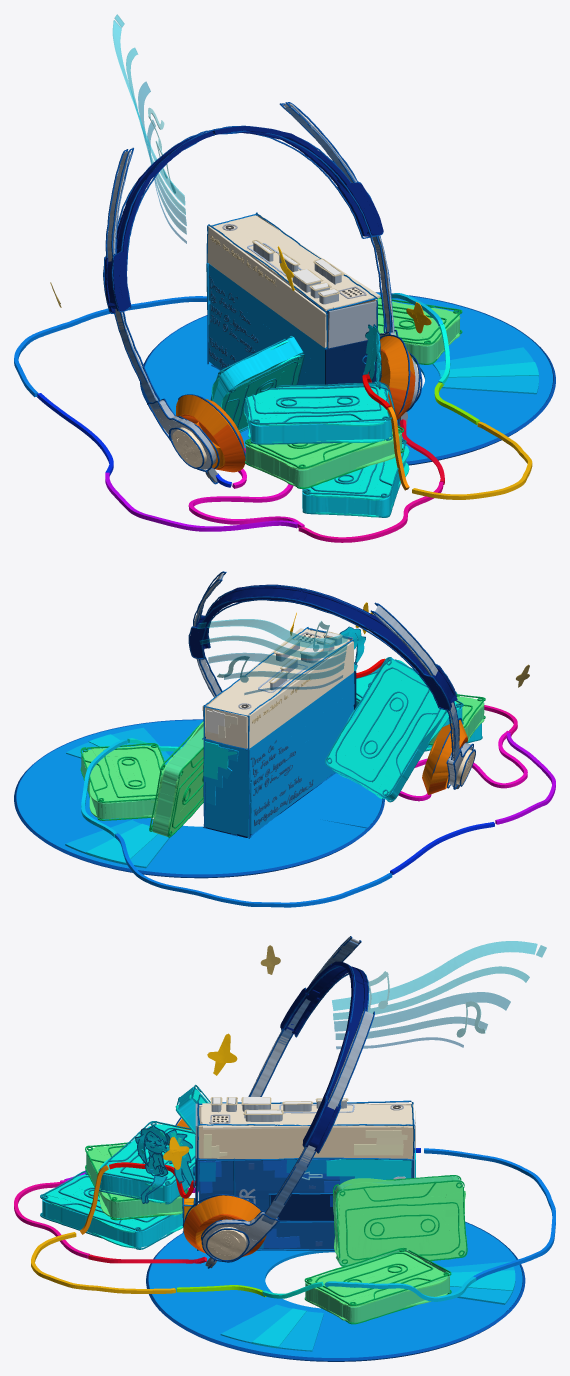
The model's file is radiodraco.glb.
3 renders of one model, top to bottom at view 1: azimuth 30°, elevation 25°; view 2: azimuth 150°, elevation 25°; view 3: azimuth 270°, elevation 25°, orthographic. The views are drawn at different scales.
Parts seen in each view (by area): view 1: Group.Environment.Curve.0, Group.Paint.Curve.10, Group.Tapes.Curve.114, Group.Environment.Curve.2, Group.Tapes.Curve.73, Group.Paint.Curve.7, Group.Tapes.Curve.119, Group.Tapes.Curve.155, Group.Tapes.Curve.121, Group.Paint.Curve.4, Group.Paint.Curve.20, Group.Tapes.Curve.32 (+35 smaller); view 2: Group.Environment.Curve.0, Group.Tapes.Curve.160, Group.Paint.Curve.10, Group.Tapes.Curve.162, Group.Paint.Curve.20, Group.Environment.Curve.1, Group.Paint.Curve.7, Group.Tapes.Curve.185, Group.Wire (1).Curve.10, Group.Paint.Curve.13, Group.Tapes.Curve.208, Group.Paint.Curve.9 (+31 smaller); view 3: Group.Environment.Curve.0, Group.Paint.Curve.0, Group.Tapes.Curve.227, Group.Tapes.Curve.209, Group.Tapes.Curve.171, Group.Paint.Curve.1, Group.Environment.Curve.7, Group.Environment.Curve.2, Group.Tapes.Curve.32, Group.Environment.Curve.1, Group.Environment.Curve.9, Group.Tapes.Curve.185 (+40 smaller).
Part boxes in pixels (<box>): Group.Environment.Curve.0: <box>144,293,552,461</box>; Group.Paint.Curve.10: <box>207,226,326,347</box>; Group.Tapes.Curve.114: <box>244,384,391,443</box>; Group.Environment.Curve.2: <box>432,347,538,394</box>; Group.Tapes.Curve.73: <box>245,428,401,487</box>; Group.Paint.Curve.7: <box>208,264,326,384</box>; Group.Tapes.Curve.119: <box>255,392,383,417</box>; Group.Tapes.Curve.155: <box>212,337,303,406</box>; Group.Tapes.Curve.121: <box>250,386,388,426</box>; Group.Paint.Curve.4: <box>328,301,376,348</box>; Group.Paint.Curve.20: <box>209,303,320,384</box>; Group.Tapes.Curve.32: <box>302,442,405,517</box>; Group.Environment.Curve.0: <box>16,720,382,874</box>; Group.Tapes.Curve.160: <box>343,673,432,775</box>; Group.Paint.Curve.10: <box>247,641,353,748</box>; Group.Tapes.Curve.162: <box>336,659,445,795</box>; Group.Paint.Curve.20: <box>250,707,353,814</box>; Group.Environment.Curve.1: <box>14,719,384,878</box>; Group.Paint.Curve.7: <box>249,672,354,780</box>; Group.Tapes.Curve.185: <box>99,749,156,799</box>; Group.Wire (1).Curve.10: <box>115,832,392,907</box>; Group.Paint.Curve.13: <box>218,743,250,836</box>; Group.Tapes.Curve.208: <box>152,726,203,836</box>; Group.Paint.Curve.9: <box>250,691,353,782</box>; Group.Environment.Curve.0: <box>148,1222,522,1357</box>; Group.Paint.Curve.0: <box>198,1125,412,1159</box>; Group.Tapes.Curve.227: <box>342,1196,458,1249</box>; Group.Tapes.Curve.209: <box>336,1182,464,1263</box>; Group.Tapes.Curve.171: <box>305,1249,449,1322</box>; Group.Paint.Curve.1: <box>198,1156,412,1190</box>; Group.Environment.Curve.7: <box>332,941,537,1010</box>; Group.Environment.Curve.2: <box>220,1304,323,1351</box>; Group.Tapes.Curve.32: <box>42,1174,182,1247</box>; Group.Environment.Curve.1: <box>146,1221,525,1361</box>; Group.Environment.Curve.9: <box>334,992,510,1031</box>; Group.Tapes.Curve.185: <box>323,1259,430,1297</box>.
Bounding box in the file's own units: 5.08 × 2.94 × 5.09.
